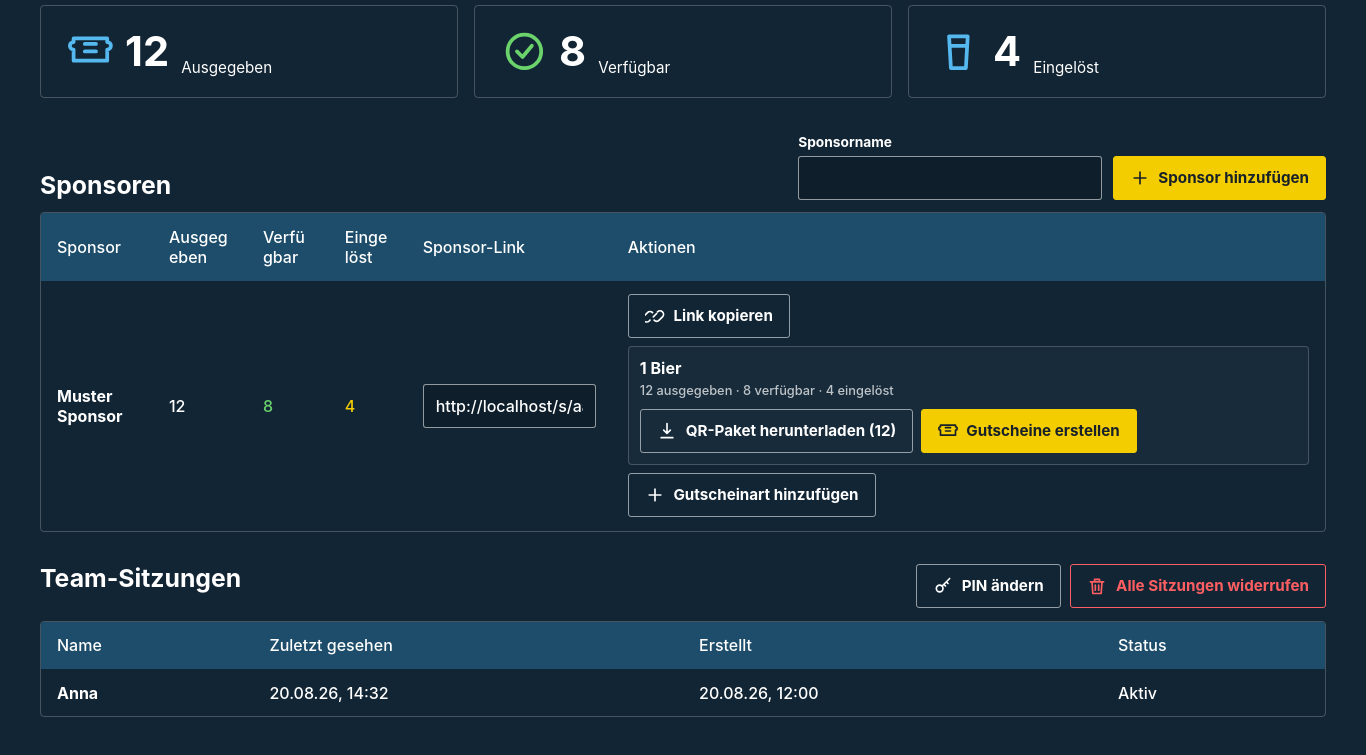
Test case: creating and selecting a new event clears pending actions from the previous event
The width and height of the screenshot is (1366, 755).
(page scrolled)
Click the button "PIN ändern".
click(988, 586)  # box [916,564,1061,608]
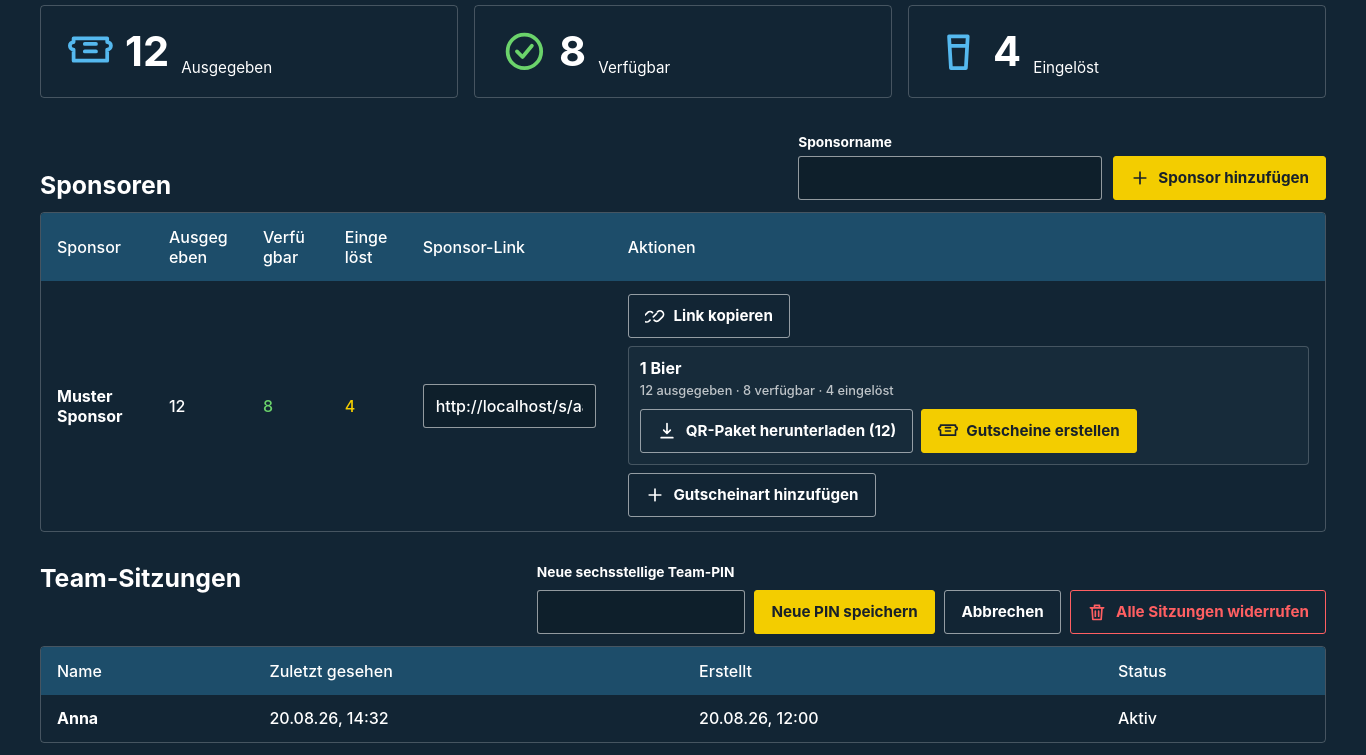
Type "654321" into the password field labelled "Neue sechsstellige Team-PIN".
click(641, 612); type("654321")  # box [537,590,745,634]
Click the button "Alle Sitzungen widerrufen".
click(1198, 612)  # box [1070,590,1326,634]
(page scrolled)
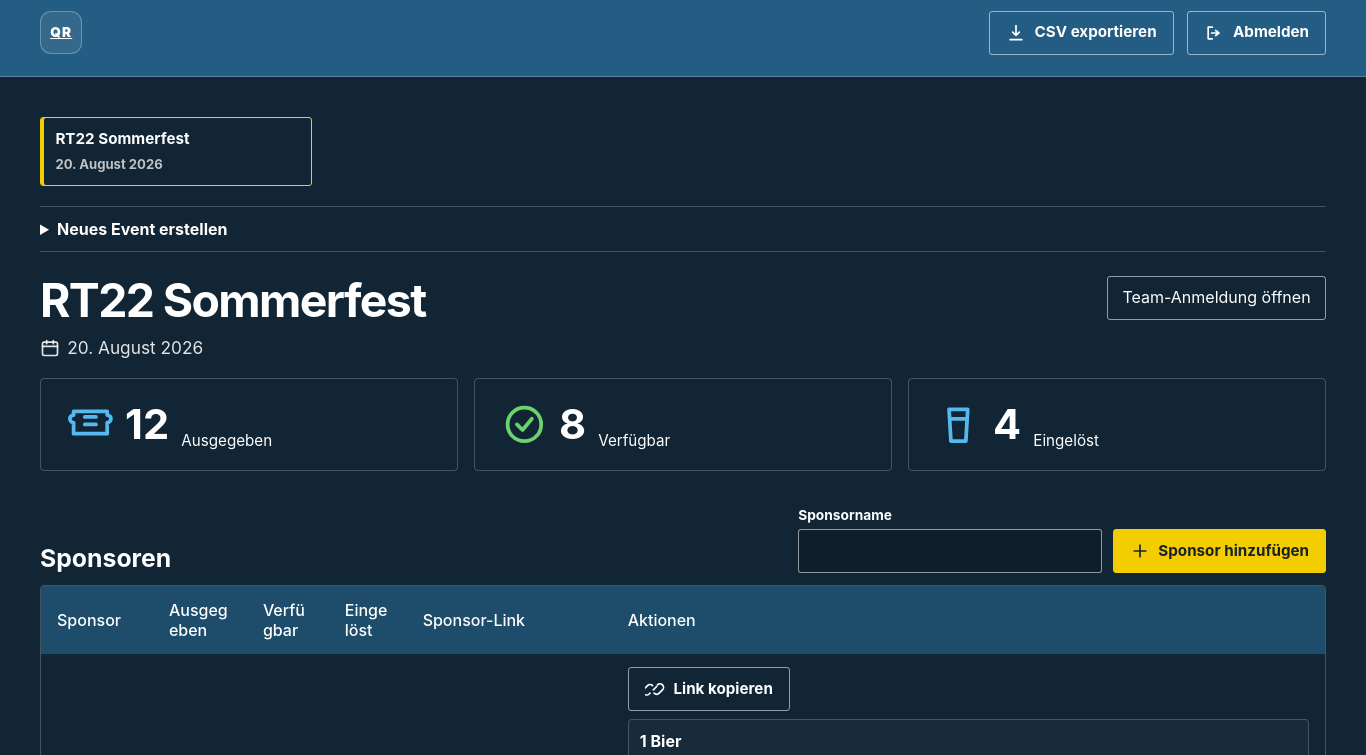
Click the heading "Neues Event erstellen".
click(142, 229)  # box [57,219,227,239]
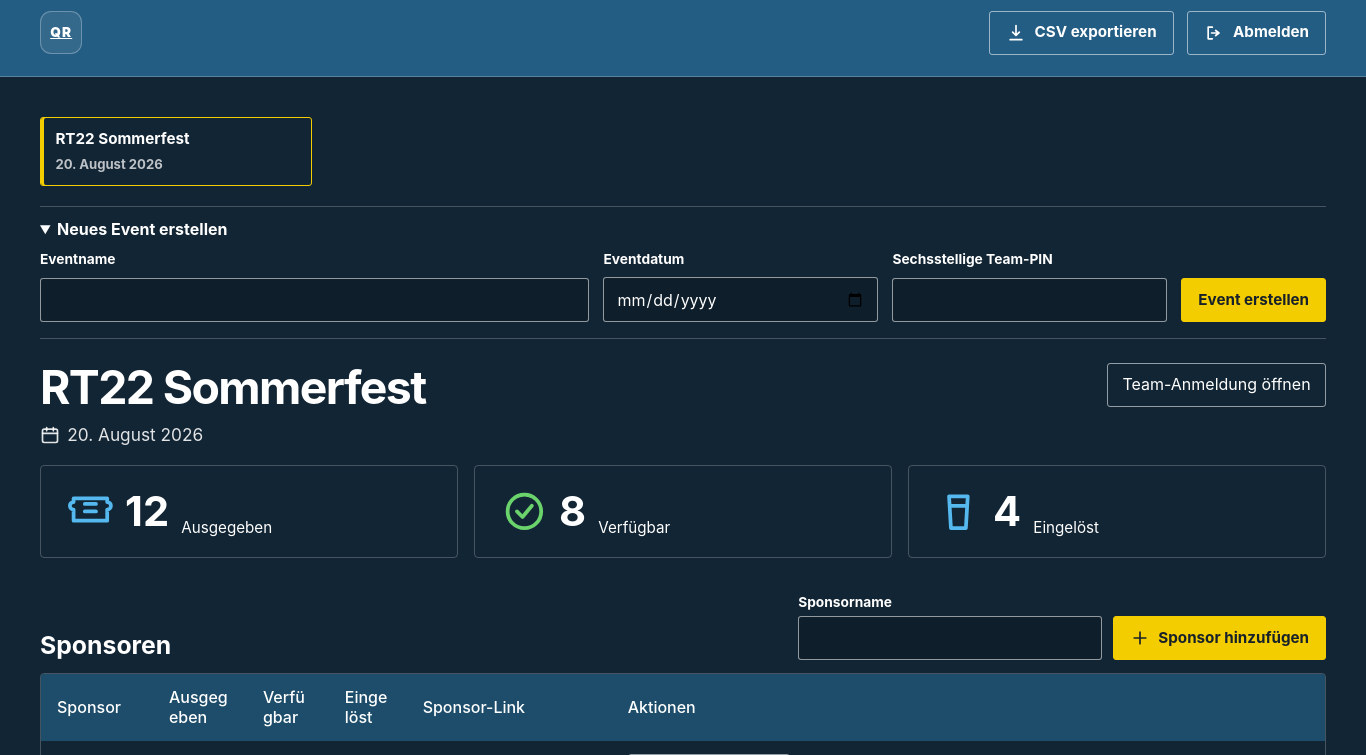
Type "Winterfest" into the field labelled "Eventname".
click(315, 300); type("Winterfest")  # box [40,278,589,322]
Type "2026-08-20" into the date field labelled "Eventdatum".
click(741, 300); type("2026-08-20")  # box [604,277,878,322]
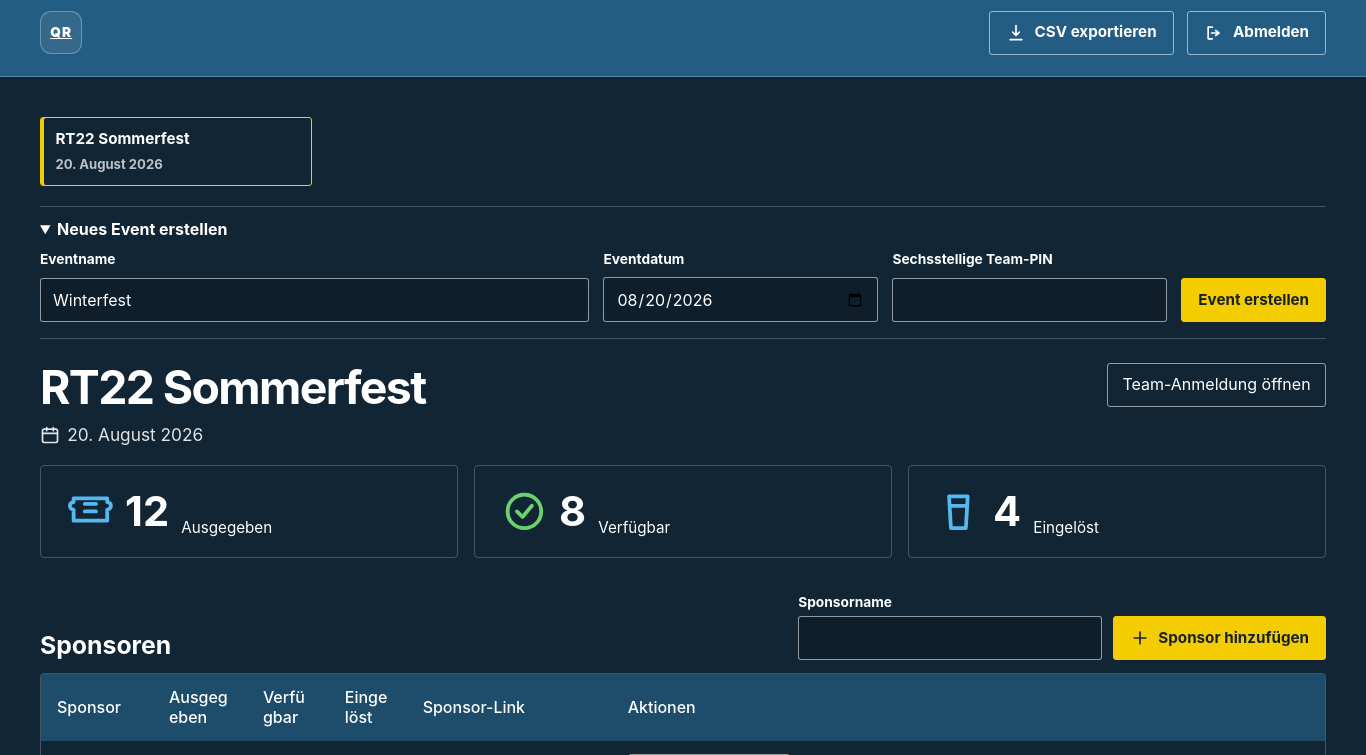
Type "246810" into the password field labelled "Sechsstellige Team-PIN".
click(1030, 300); type("246810")  # box [892,278,1167,322]
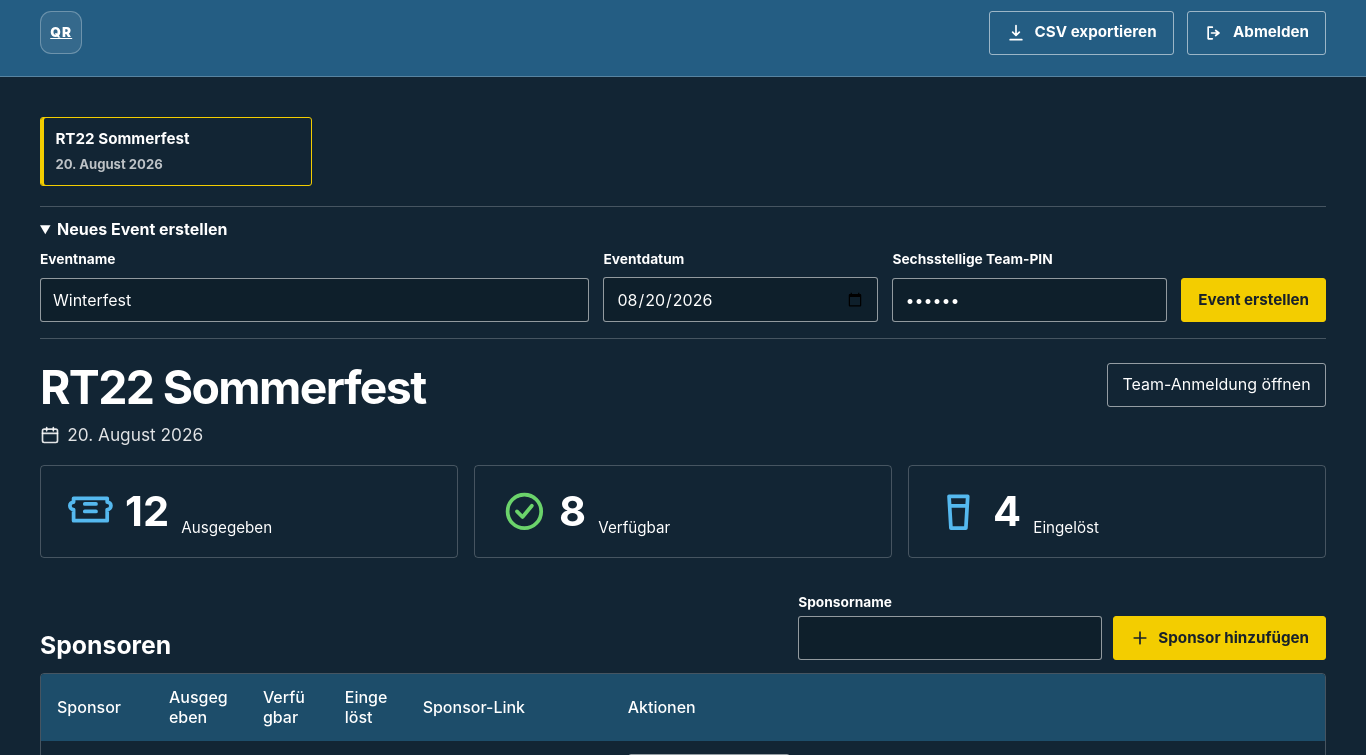
Click the button "Event erstellen".
click(1254, 300)  # box [1181,278,1326,322]
(page scrolled)
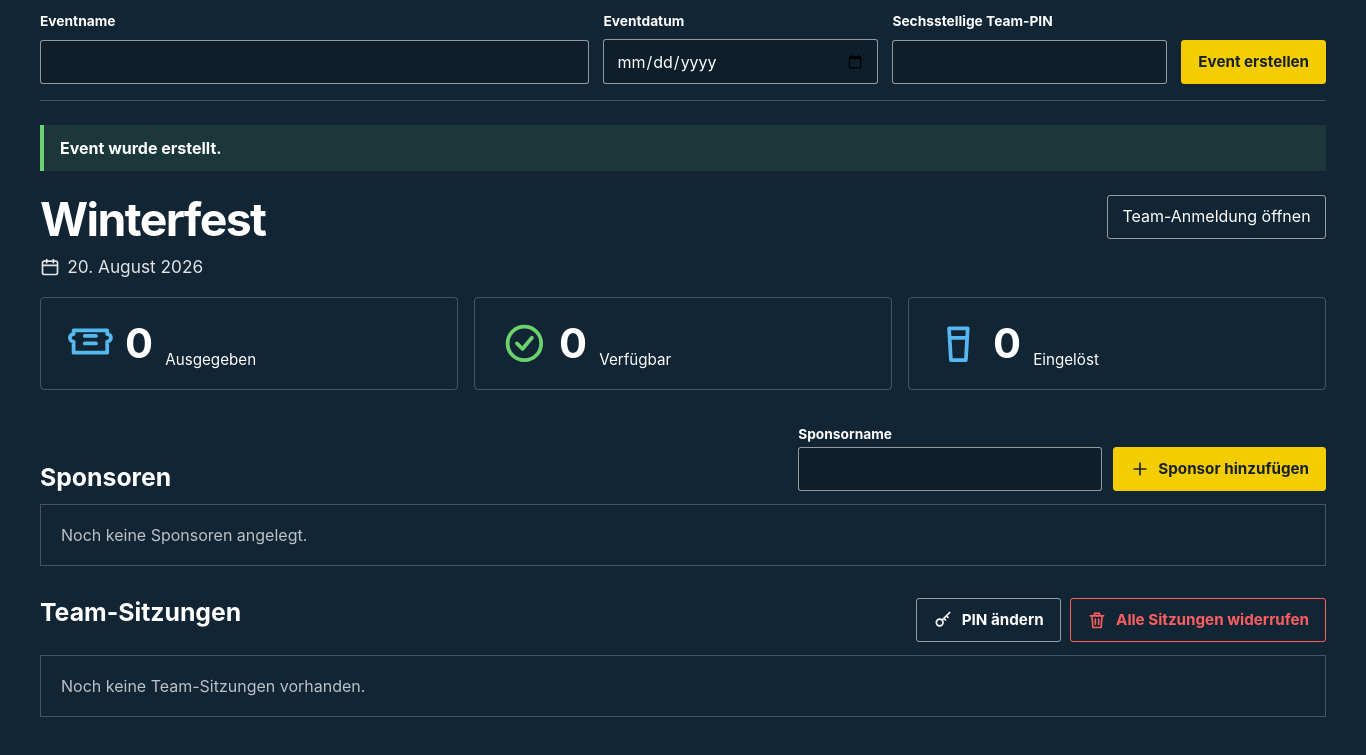
Expected: the text "Noch keine Team-Sitzungen vorhanden." is shown, [40,655,1326,717]
